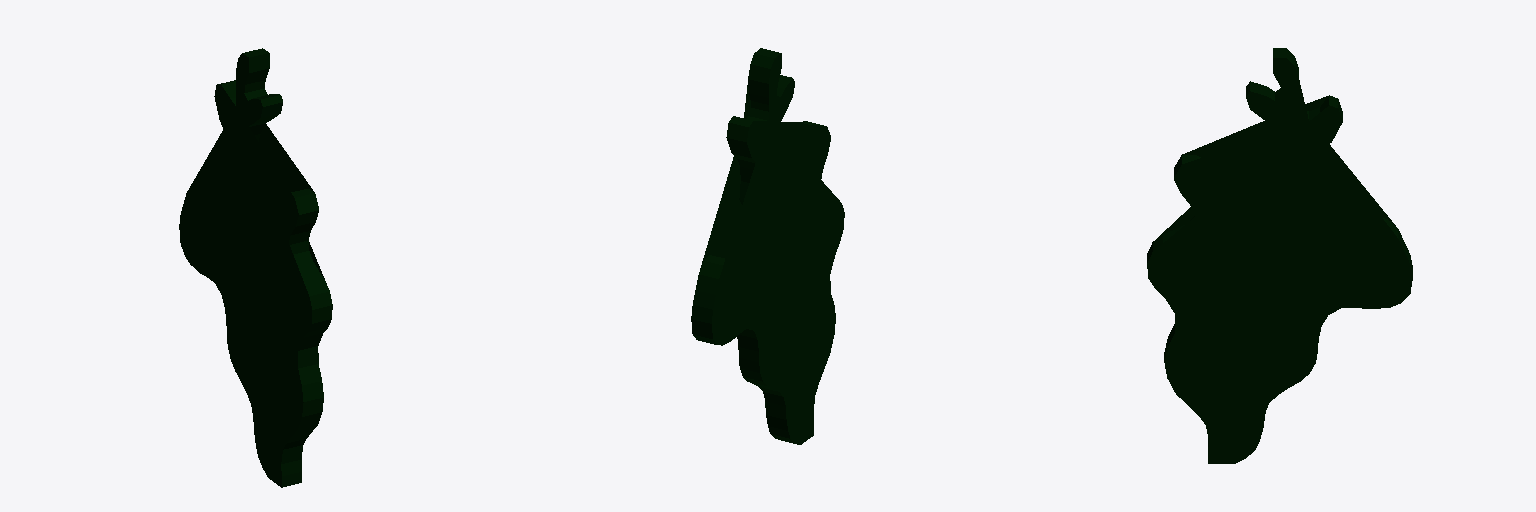
The model's file is alg.obj.
3 views of the same model, side by side, from view 1: azimuth 30°, elevation 25°; view 2: azimuth 150°, elevation 25°; view 3: azimuth 270°, elevation 25° (orthographic).
Parts seen in each view (by area): view 1: alg; view 2: alg; view 3: alg.
Part boxes in pixels (x1,y1,x2,y2): alg: (179,48,332,487); alg: (691,48,844,444); alg: (1147,48,1412,463).
Bounding box in the file's own units: 0.2459 × 4.66 × 2.77.